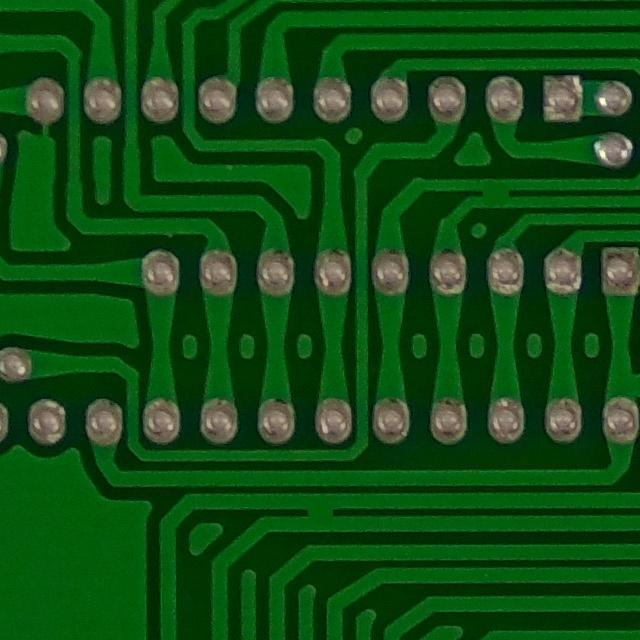short: (294, 486, 347, 537)
